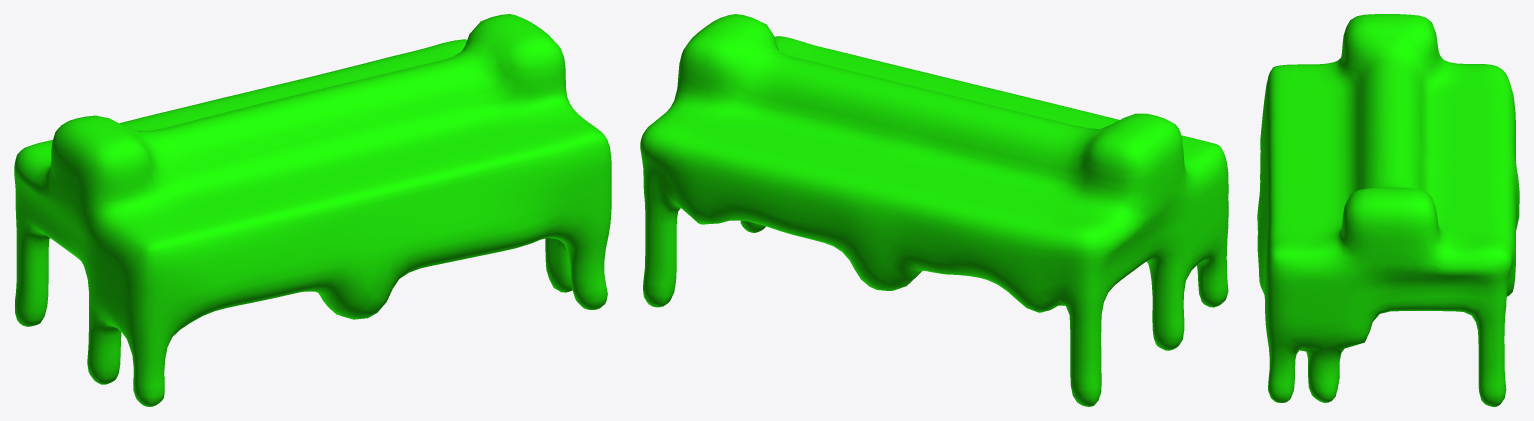
The model's file is Slime.fbx.
The picture shows the model from 3 angles, left to right: view 1: azimuth 30°, elevation 25°; view 2: azimuth 150°, elevation 25°; view 3: azimuth 270°, elevation 25°; orthographic projection. The views are drawn at different scales.
Visible parts, largest first — view 1: Dab_Oil_remesh; view 2: Dab_Oil_remesh; view 3: Dab_Oil_remesh.
Boxes of the visible parts, x1,y1,x2,y2 form: Dab_Oil_remesh: (14,14,611,406); Dab_Oil_remesh: (640,14,1228,406); Dab_Oil_remesh: (1257,14,1519,406).
Bounding box in the file's own units: 79.29 × 38.33 × 43.72.
